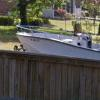Boat: (13, 16, 100, 64)
